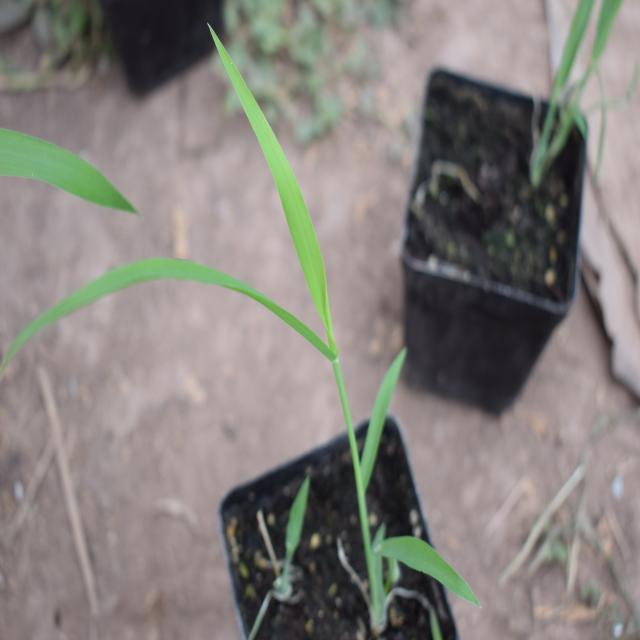crabgrass: (47, 81, 437, 580)
